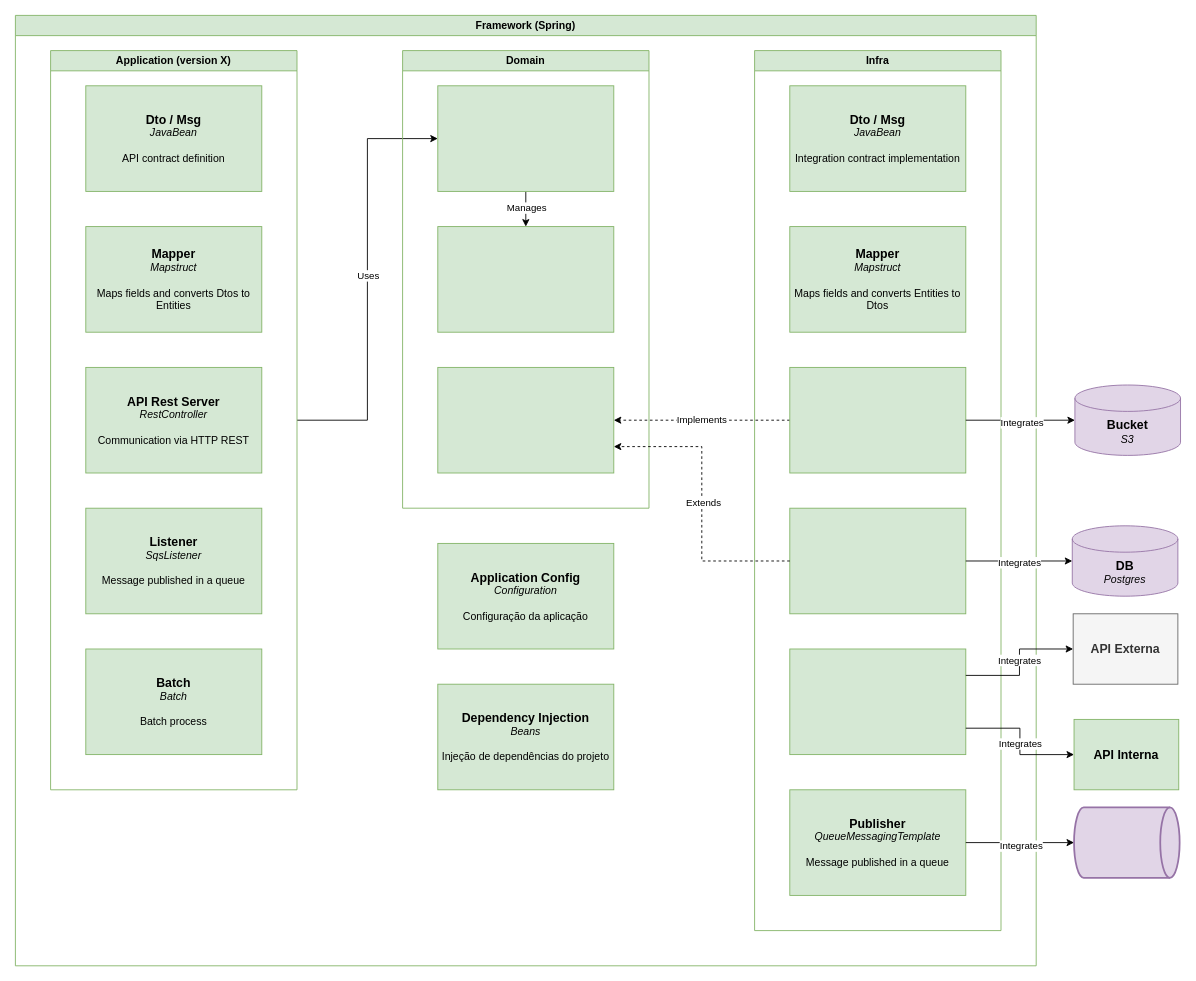
This 1196x981 diagram has some shape labels left out. The shapes that lost their labels are listed below. From the top down, each one's centre as x and y in pixels, then its label:
the point at 525,138: Use Case Service Business characteristics
the point at 525,279: Entity ORM Business domain and DB tables
the point at 525,420: Repository Interface Integration contracts
the point at 877,420: RepositoryImpl Repository Facade to abstract external retrieval
the point at 877,560: RepositoryExt Spring-Data Database integration
the point at 877,701: API Rest Client Feign Integration with REST APIs
the point at 1126,842: Queue SQS
